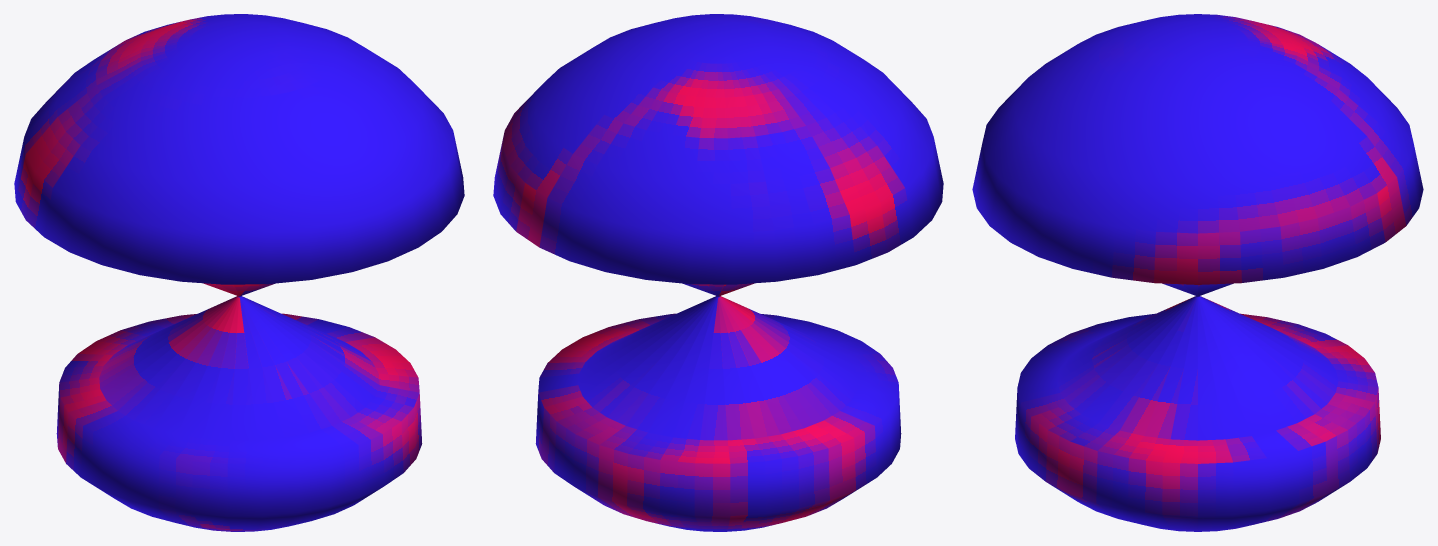
The model's file is heygurl1.glb.
3 views of the same model, side by side, from view 1: azimuth 30°, elevation 25°; view 2: azimuth 150°, elevation 25°; view 3: azimuth 270°, elevation 25° (orthographic).
Visible parts, largest first — view 1: Sphere; view 2: Sphere; view 3: Sphere.
Boxes of the visible parts, x1,y1,x2,y2 form: Sphere: (14,14,464,531); Sphere: (493,14,943,531); Sphere: (972,14,1423,531).
Bounding box in the file's own units: 1.74 × 2 × 1.74.
1 material, 1 textured.
